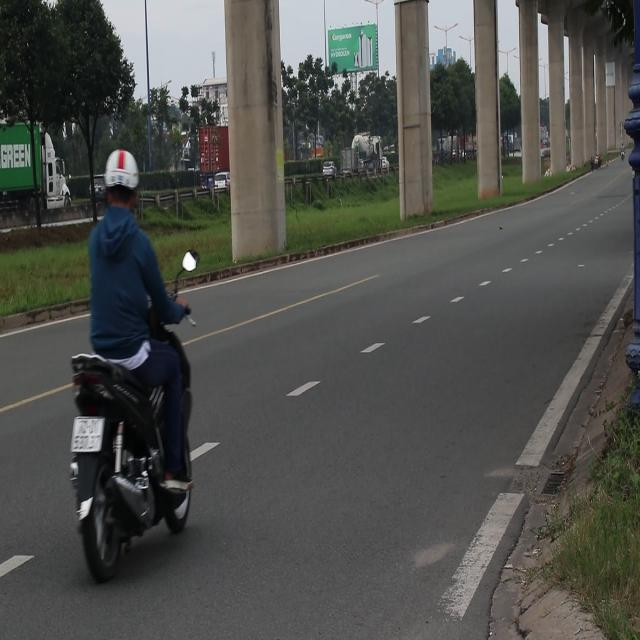car: (198, 174, 229, 194), (209, 172, 231, 191), (322, 160, 337, 186)
motorbike: (65, 345, 196, 584)
truck: (2, 119, 72, 232), (190, 120, 248, 175), (336, 138, 364, 187)
